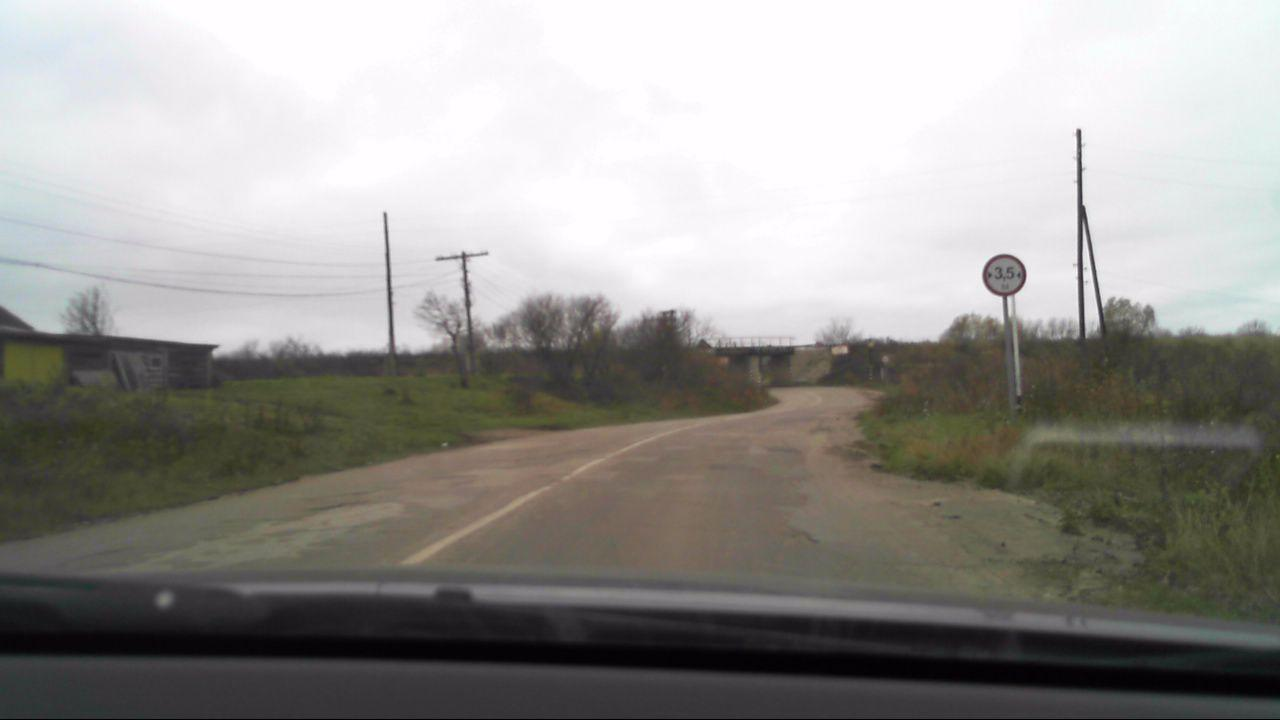3_14: (981, 252, 1026, 297)
